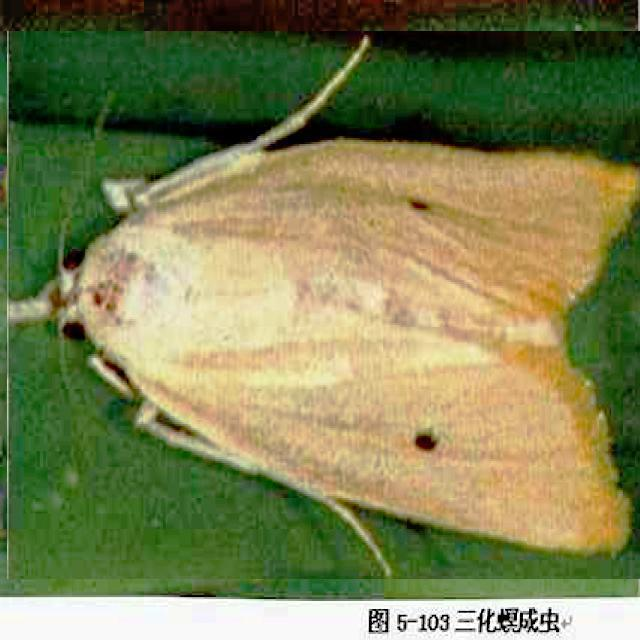stem-borer: (7, 31, 640, 579)
